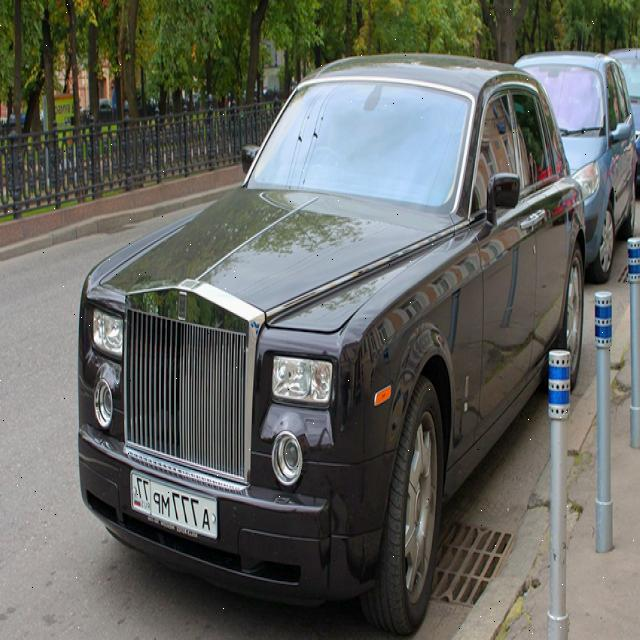number-plates: (130, 470, 220, 546)
